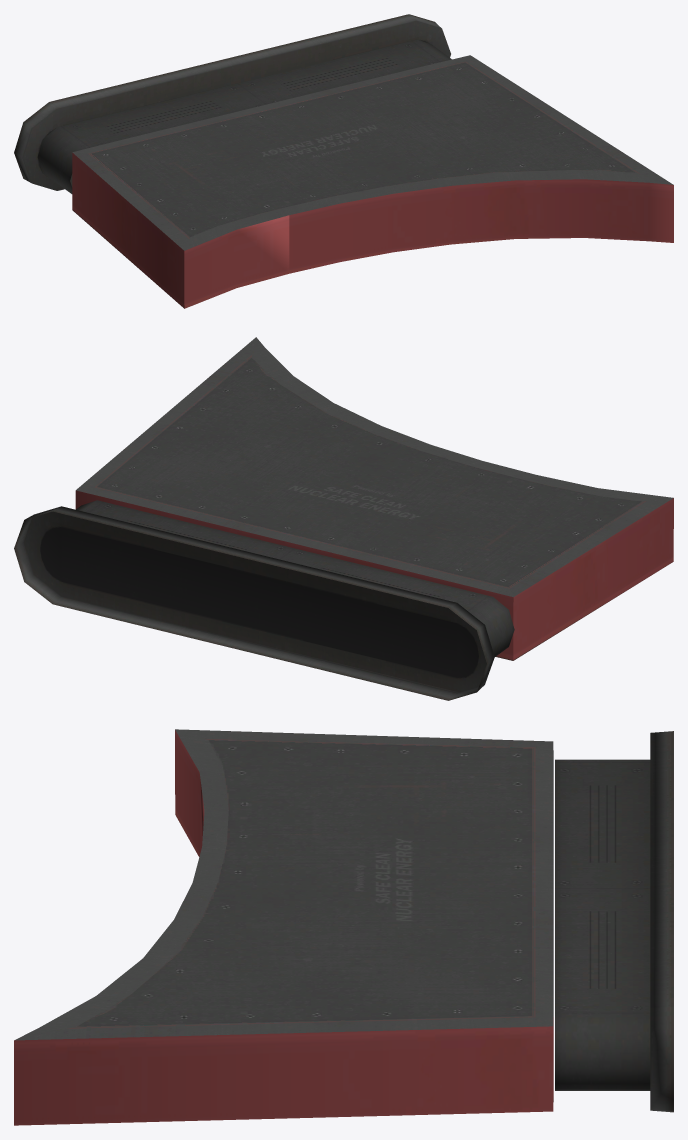
Rendered from nt_sign_population_LOD2.obj.
3 views of the same model, one above another, from view 1: azimuth 30°, elevation 25°; view 2: azimuth 150°, elevation 25°; view 3: azimuth 270°, elevation 25° (orthographic). The views are drawn at different scales.
Parts seen in each view (by area): view 1: mtl_nt_sign_population; view 2: mtl_nt_sign_population; view 3: mtl_nt_sign_population.
Boxes of the visible parts, x1,y1,x2,y2 form: mtl_nt_sign_population: (14, 14, 673, 308); mtl_nt_sign_population: (14, 337, 673, 700); mtl_nt_sign_population: (14, 729, 673, 1125).
Bounding box in the file's own units: 393 × 72.93 × 352.
